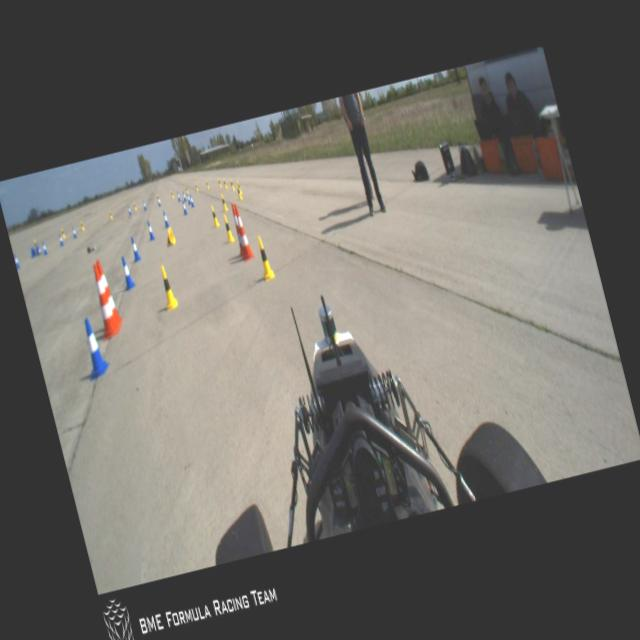blue_cone: (75, 314, 112, 381), (118, 254, 134, 289), (128, 235, 141, 262), (144, 220, 154, 240), (161, 210, 169, 228), (180, 199, 187, 215), (188, 194, 195, 208), (42, 240, 48, 256), (28, 247, 36, 259), (14, 254, 20, 268), (58, 232, 64, 245), (71, 226, 77, 238), (34, 244, 41, 254), (186, 193, 191, 206), (182, 190, 186, 202), (142, 200, 146, 210), (156, 197, 160, 206), (127, 206, 131, 214), (177, 192, 180, 201)
large_orange_cone: (84, 262, 122, 341), (94, 256, 124, 325), (230, 202, 255, 261), (227, 203, 248, 260)
yellow_cone: (156, 264, 178, 312), (253, 234, 274, 280), (220, 213, 234, 243), (208, 204, 220, 228), (162, 227, 176, 247), (220, 192, 228, 211), (235, 183, 242, 200), (32, 237, 39, 252), (236, 180, 242, 194), (222, 177, 227, 190), (229, 177, 234, 190), (217, 178, 222, 188), (60, 228, 64, 238), (194, 182, 198, 192), (80, 221, 84, 230), (109, 210, 113, 219), (204, 179, 208, 188), (132, 202, 136, 210), (170, 189, 173, 198), (185, 186, 188, 193)
